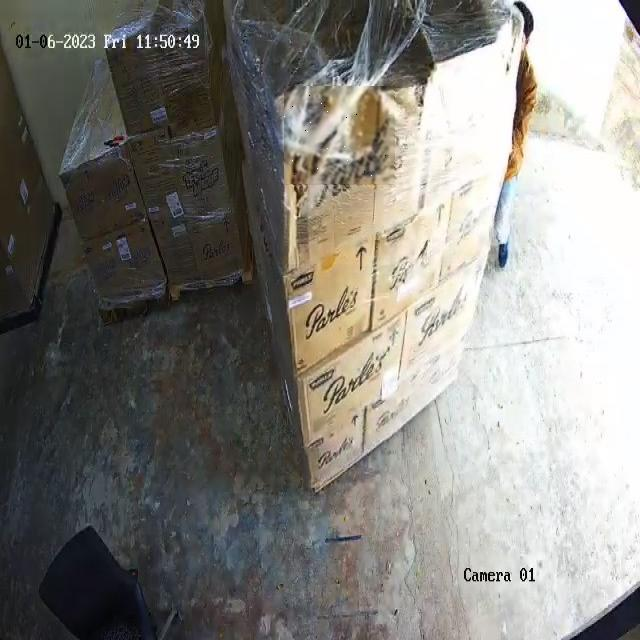squeeze: (284, 87, 393, 184)
